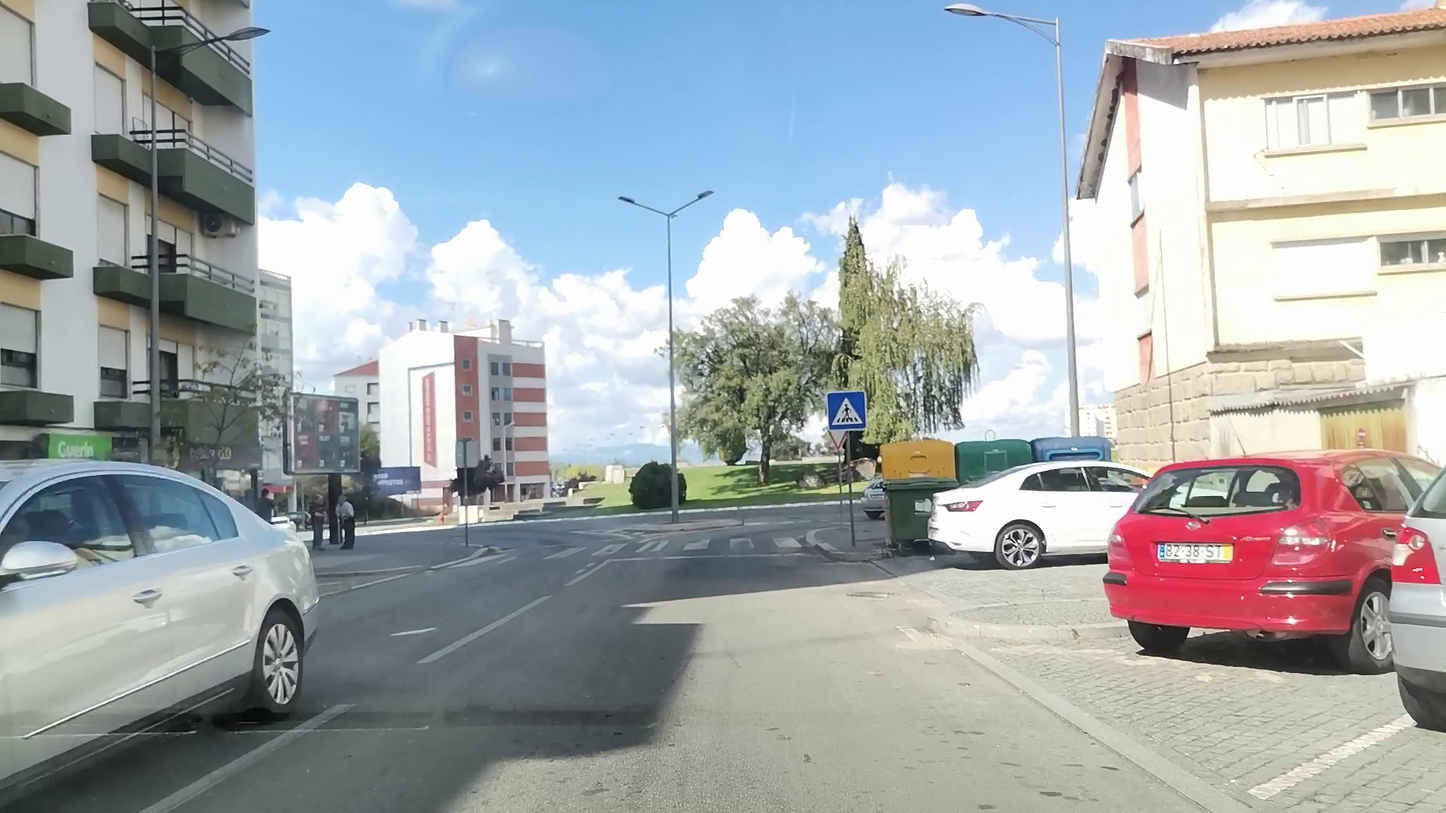Stairs: (443, 536, 804, 568)
